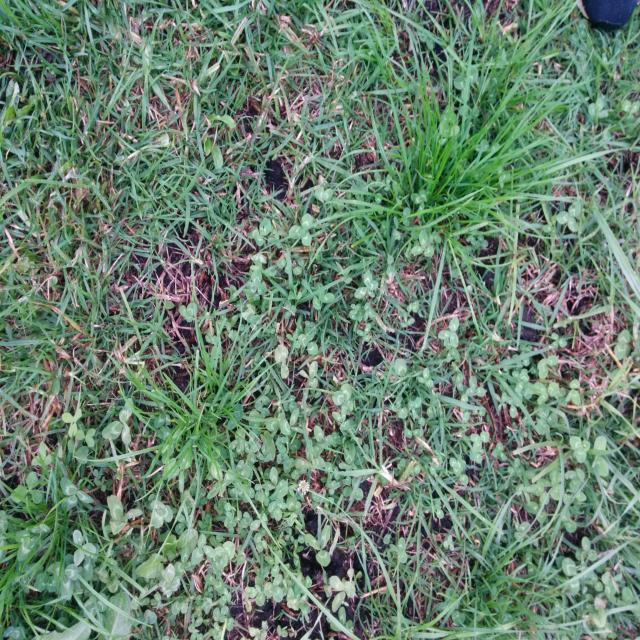Four Leaf Clover: (354, 270, 378, 299)
